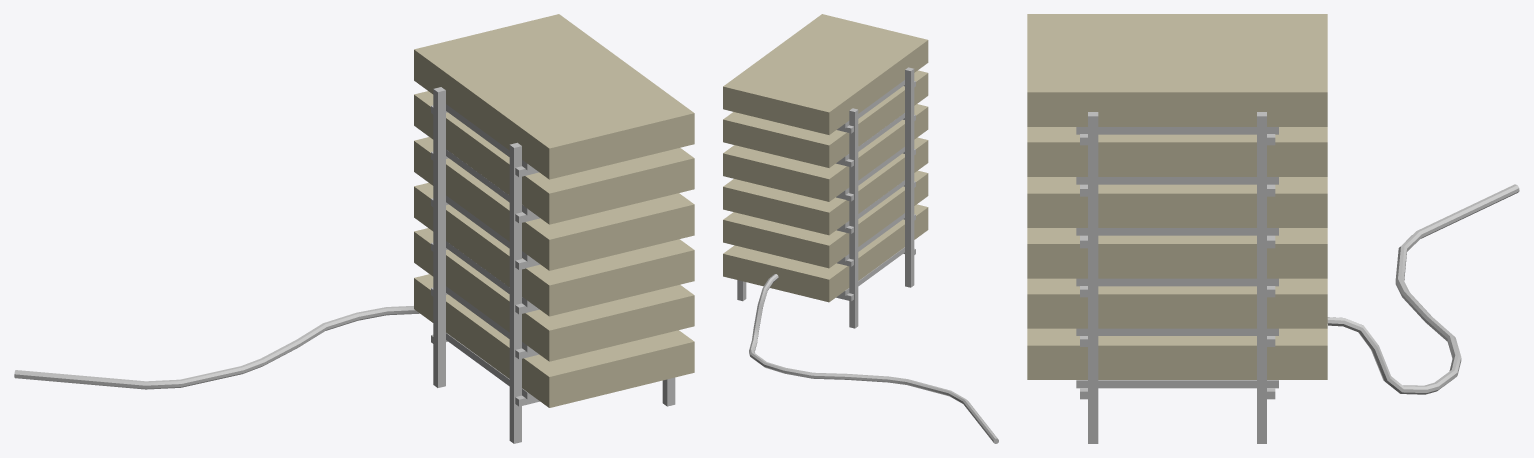
The model's file is barebone.fbx.
3 views of the same model, side by side, from view 1: azimuth 30°, elevation 25°; view 2: azimuth 150°, elevation 25°; view 3: azimuth 270°, elevation 25° (orthographic). The views are drawn at different scales.
Visible parts, largest first — view 1: Mesh; view 2: Mesh; view 3: Mesh.
Boxes of the visible parts, bbox=[...] form: Mesh: bbox=[14, 14, 694, 443]; Mesh: bbox=[723, 14, 998, 443]; Mesh: bbox=[1027, 14, 1519, 443].
Size of the model in its own units: 196 by 125 by 160.
